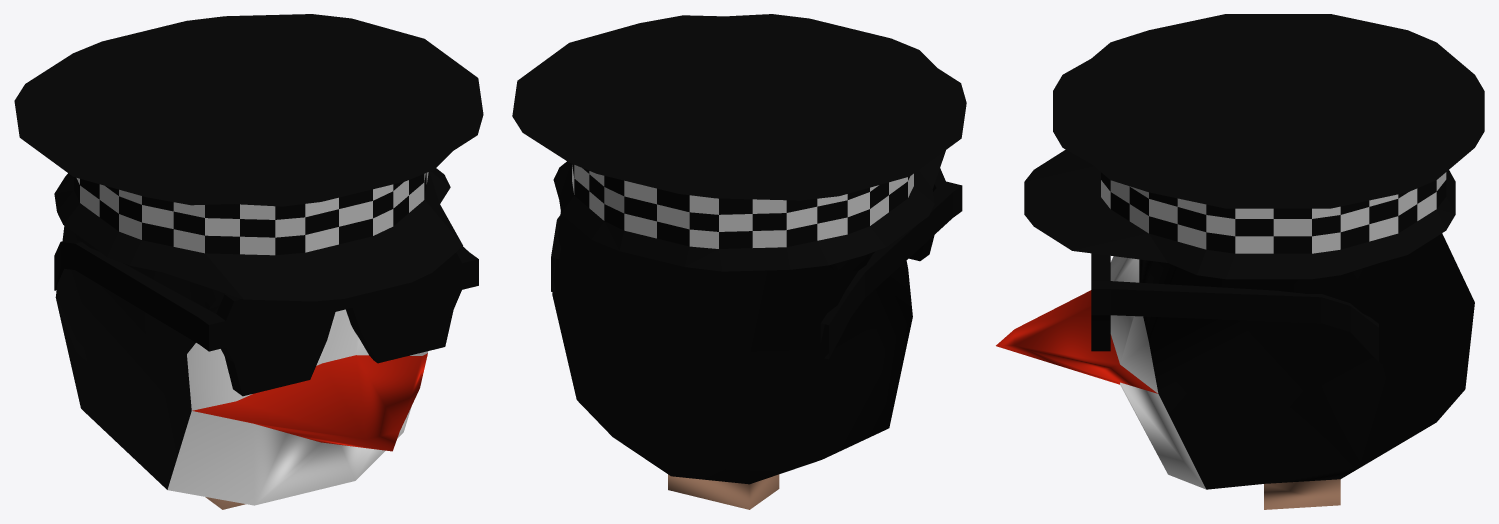
The model's file is no_anime_workspace.obj.
3 renders of one model, left to right at view 1: azimuth 30°, elevation 25°; view 2: azimuth 150°, elevation 25°; view 3: azimuth 270°, elevation 25°, orthographic. The views are drawn at different scales.
Visible parts, largest first — view 1: 14398.002; view 2: 14398.002; view 3: 14398.002.
Boxes of the visible parts, x1=… form: 14398.002: x1=14, y1=14, x2=483, y2=509; 14398.002: x1=512, y1=14, x2=966, y2=509; 14398.002: x1=996, y1=14, x2=1484, y2=509.
Bounding box in the file's own units: 48 × 44 × 51.
